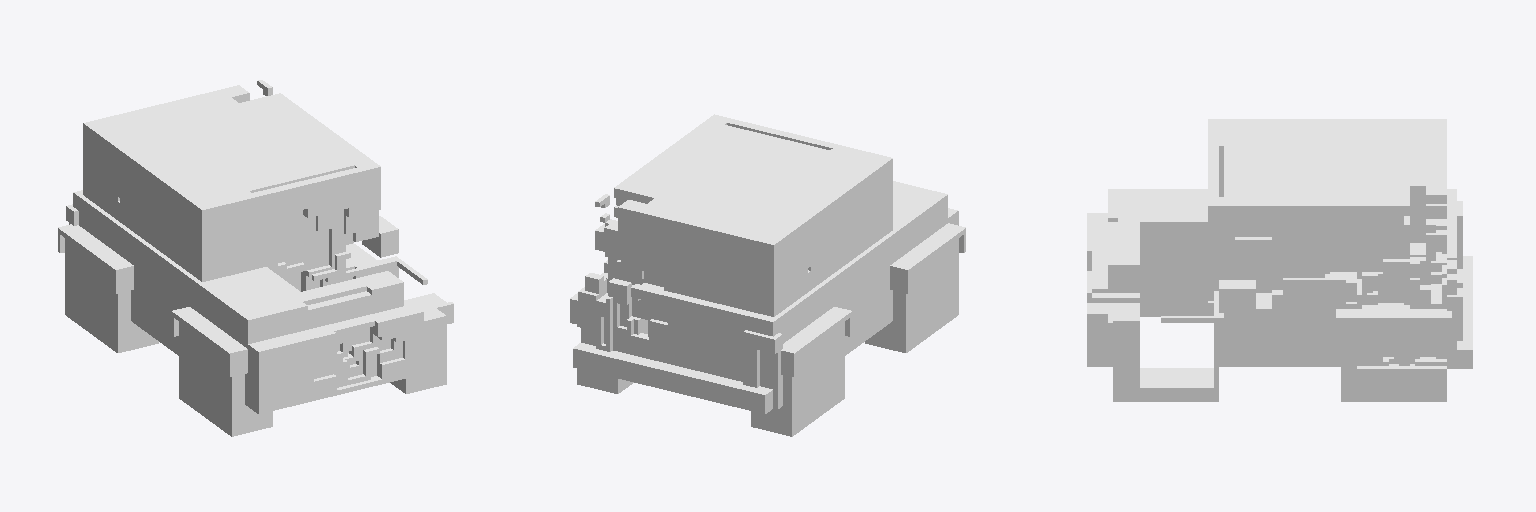
Rendered from recar_2.1.obj.
The picture shows the model from 3 angles: view 1: azimuth 30°, elevation 25°; view 2: azimuth 150°, elevation 25°; view 3: azimuth 270°, elevation 25°; orthographic projection.
Bounding box in the file's own units: 49 × 39 × 73.